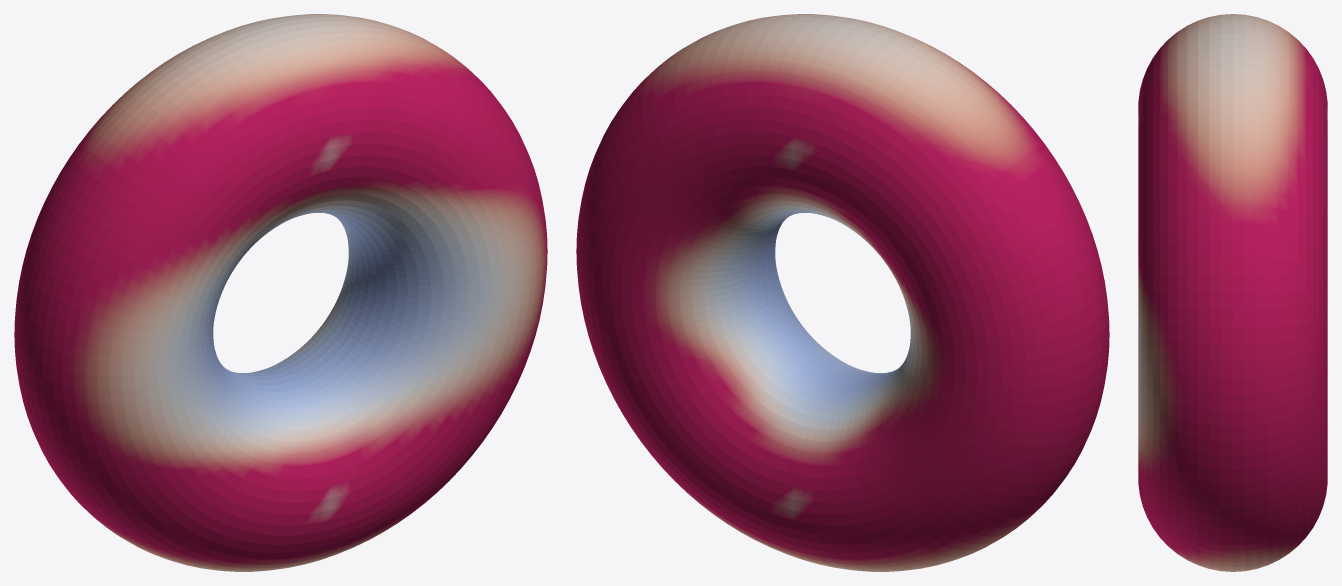
The picture shows the model from 3 angles, left to right: view 1: azimuth 30°, elevation 25°; view 2: azimuth 150°, elevation 25°; view 3: azimuth 270°, elevation 25°; orthographic projection. The views are drawn at different scales.
Visible parts, largest first — view 1: world; view 2: world; view 3: world.
Boxes of the visible parts, bbox=[...] form: world: bbox=[14, 14, 547, 571]; world: bbox=[576, 14, 1109, 571]; world: bbox=[1138, 14, 1327, 571].
Bounding box in the file's own units: 26.27 × 26.27 × 8.92.
